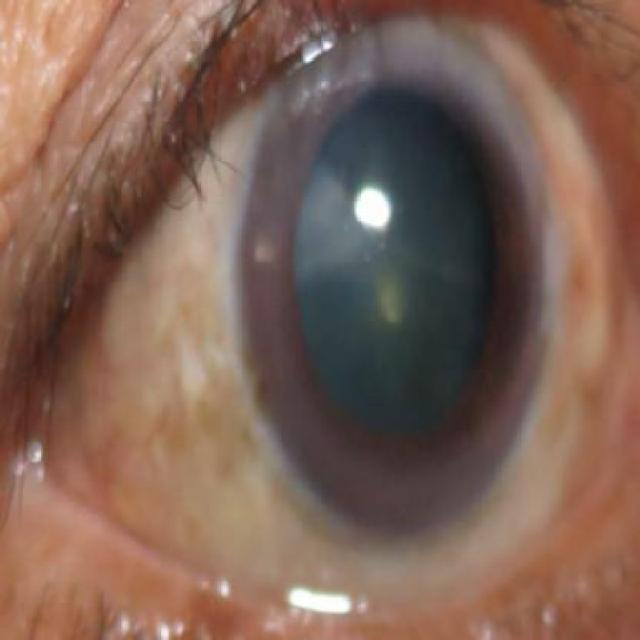Cataract: (235, 18, 549, 542)
